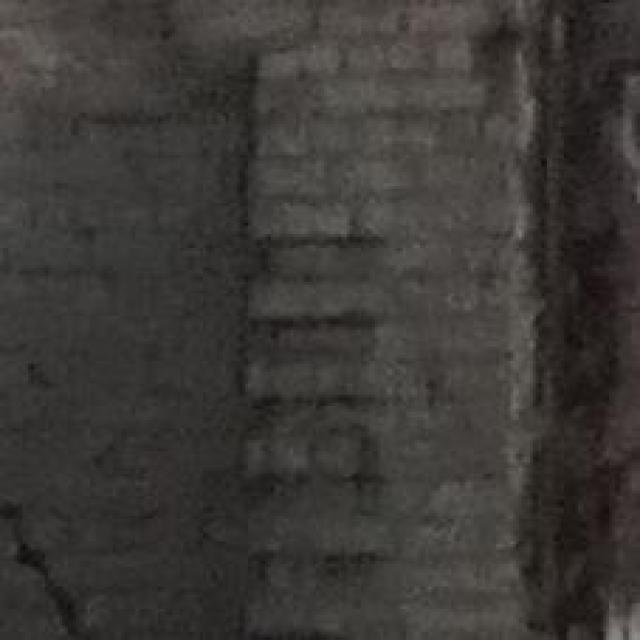Crack: (170, 39, 374, 600)
